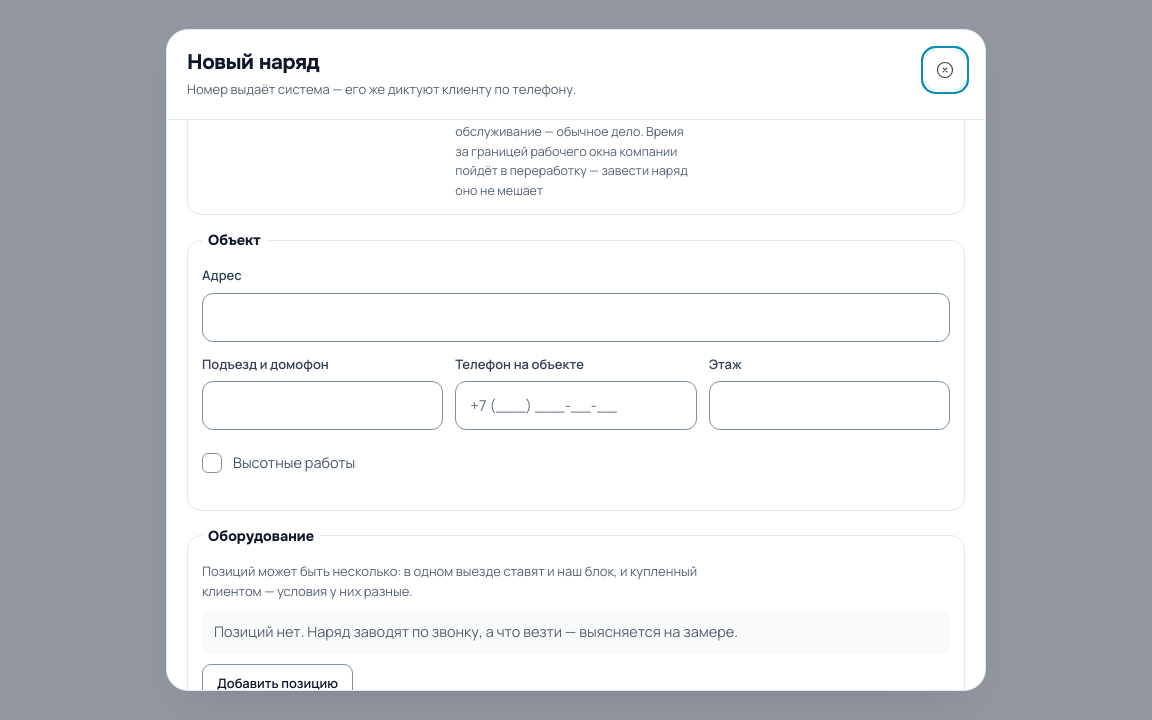
Test case: Окно заведения наряда › 🔴 признак изменённости снимается изменением, а не полями формы
(page scrolled)
Type "5" into the number field labelled "Этаж" at (829, 405), box [709,381,950,430]
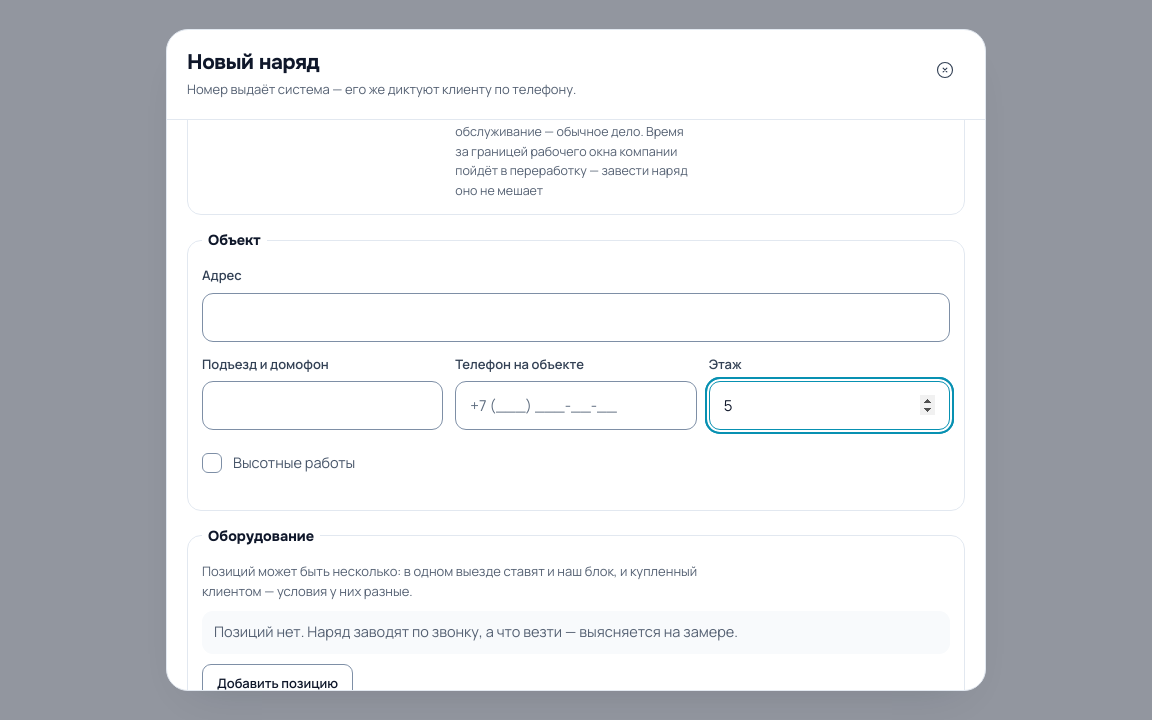
Press Escape
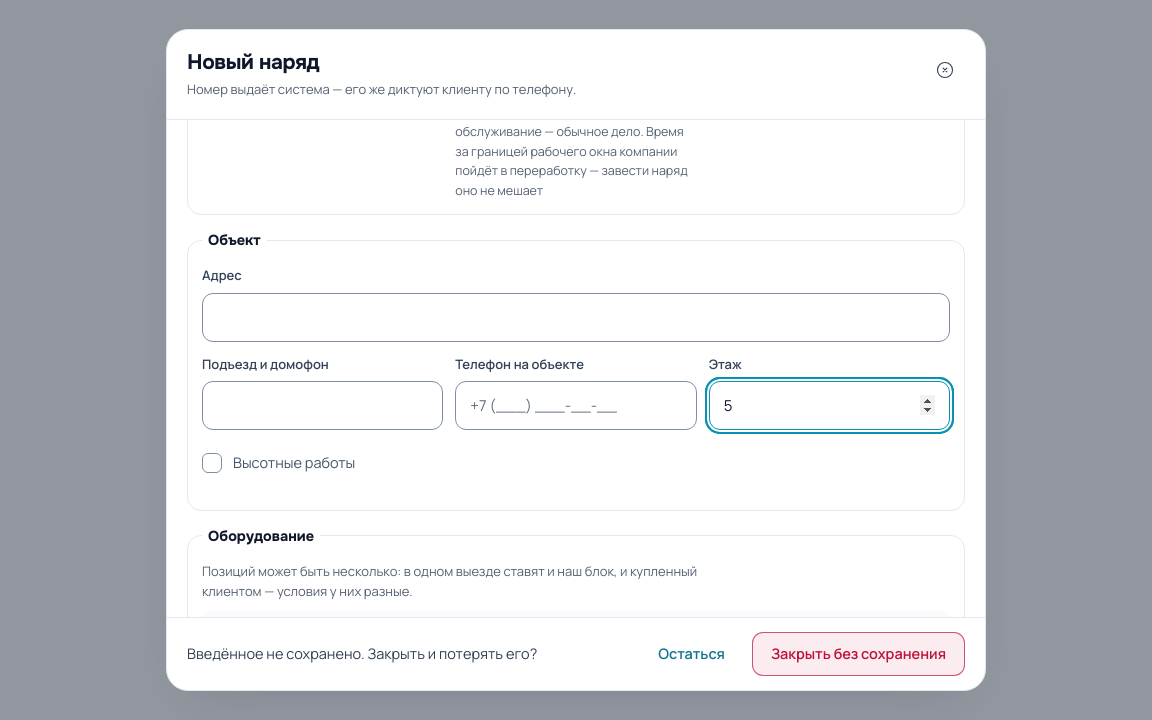
Expected: the dialog is shown, [187,632,965,676]
